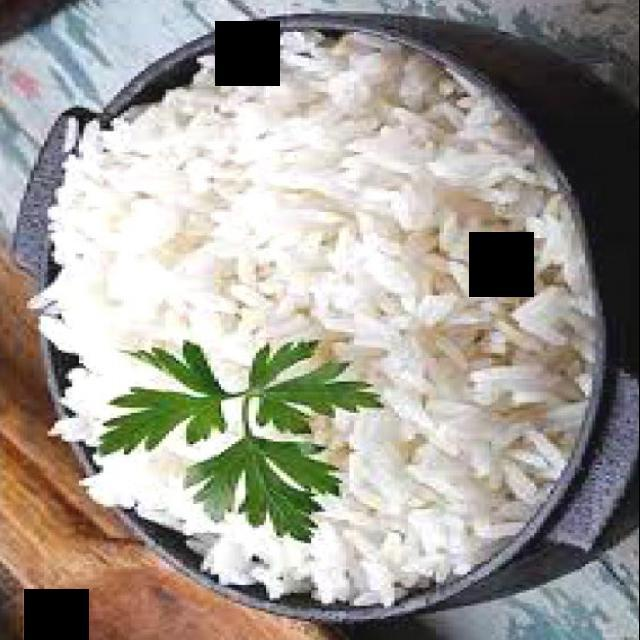rice: (34, 31, 600, 607)
